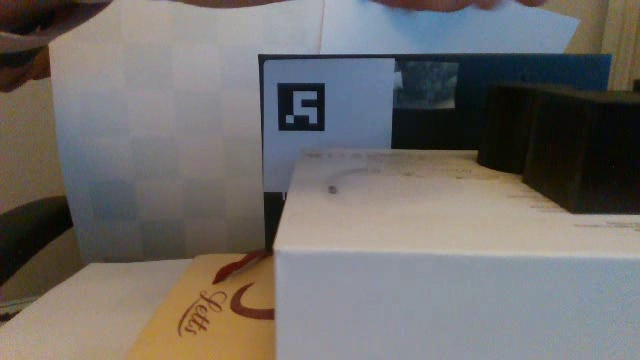cube: (516, 79, 640, 229)
cylindre: (472, 72, 542, 179)
